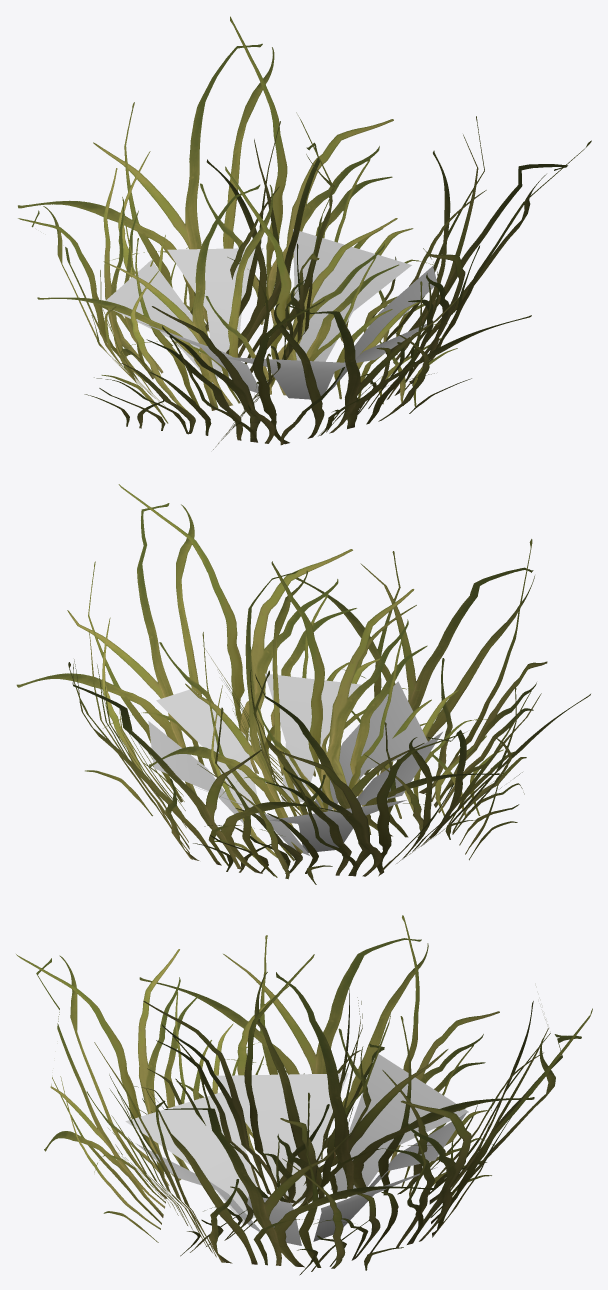
Rendered from GrassVar2.fbx.
The picture shows the model from 3 angles, top to bottom: view 1: azimuth 30°, elevation 25°; view 2: azimuth 150°, elevation 25°; view 3: azimuth 270°, elevation 25°; orthographic projection. The views are drawn at different scales.
Visible parts, largest first — view 1: Grass.001; view 2: Grass.001; view 3: Grass.001.
Part boxes in pixels (x1=…): Grass.001: x1=18, y1=16, x2=591, y2=449; Grass.001: x1=16, y1=484, x2=590, y2=884; Grass.001: x1=16, y1=915, x2=592, y2=1275.
Size of the model in its own units: 86.44 by 47.17 by 88.28.
